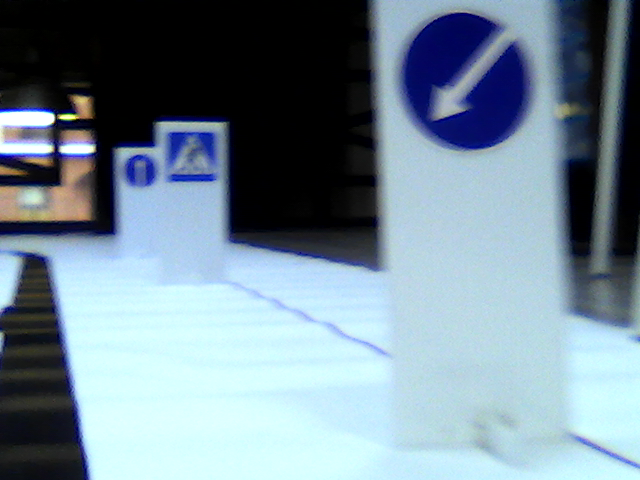forw: (126, 155, 154, 185)
pesh: (163, 130, 222, 184)
prep: (392, 15, 530, 150)
